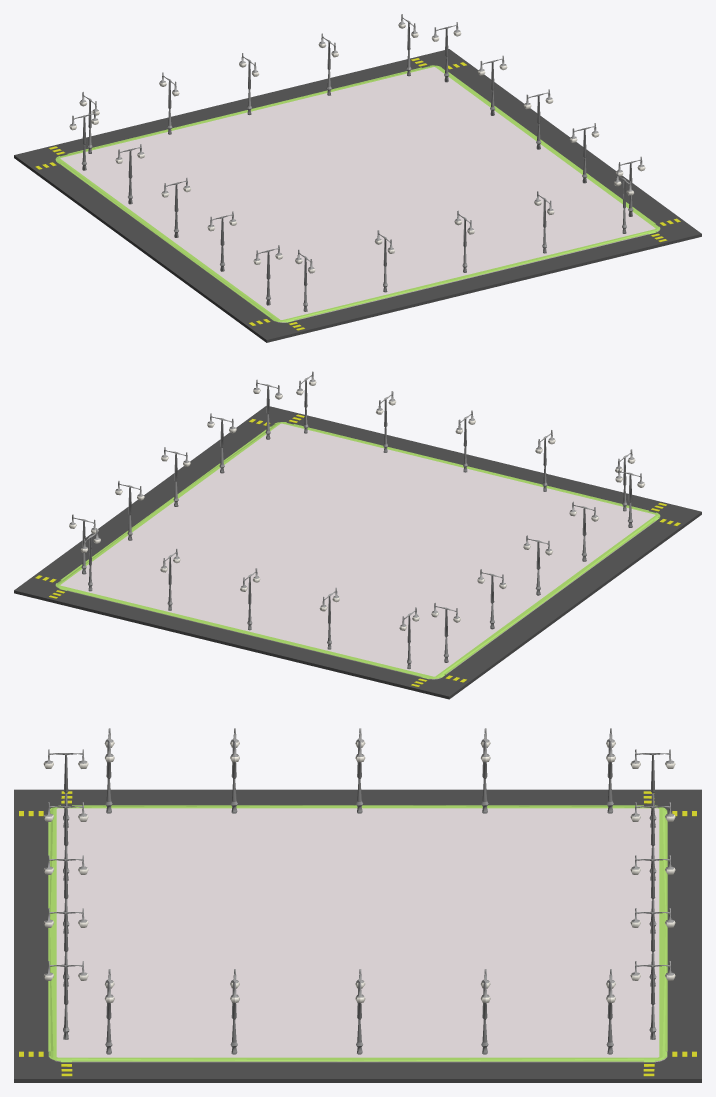
File: StreetLandWithProps.fbx
3 renders of one model, top to bottom at view 1: azimuth 30°, elevation 25°; view 2: azimuth 150°, elevation 25°; view 3: azimuth 270°, elevation 25°, orthographic. The views are drawn at different scales.
Parts seen in each view (by area): view 1: Cube.001; view 2: Cube.001; view 3: Cube.001.
Boxes of the visible parts, <box> form: Cube.001: <box>14,14,701,342</box>; Cube.001: <box>14,371,701,699</box>; Cube.001: <box>14,728,701,1082</box>.
Size of the model in its own units: 27297 by 3625 by 27438.
